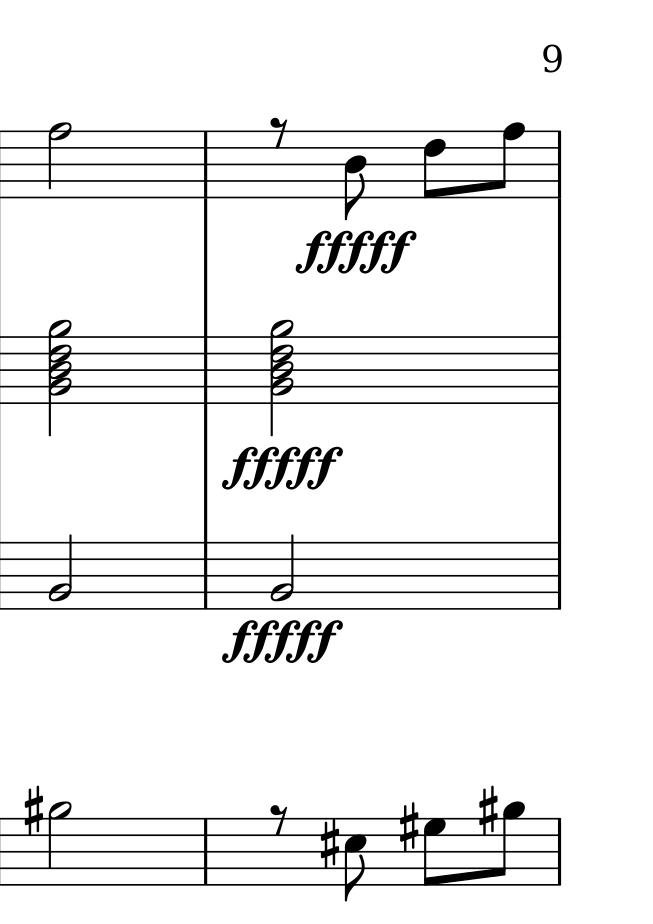2_2: (268, 531, 298, 610), (49, 532, 76, 613)
2_8: (46, 120, 74, 200)
2_9: (44, 801, 74, 891)
8_4: (343, 128, 367, 222)
8_5: (341, 815, 381, 902)
8_6: (419, 129, 448, 200)
8_7: (418, 812, 456, 892)
8_8: (494, 122, 525, 199)
8_9: (491, 796, 531, 895)
Rests8: (266, 115, 289, 149), (267, 802, 290, 835)
Sharp: (477, 785, 501, 833), (320, 818, 341, 870), (400, 801, 419, 851), (25, 785, 43, 834)
Single_barline: (195, 130, 218, 197), (548, 335, 569, 404), (548, 816, 569, 885), (549, 129, 569, 200), (196, 539, 216, 610), (196, 817, 215, 885), (198, 334, 216, 405), (549, 540, 567, 610)
fffff: (221, 618, 345, 670), (295, 227, 417, 277), (222, 444, 349, 492)
